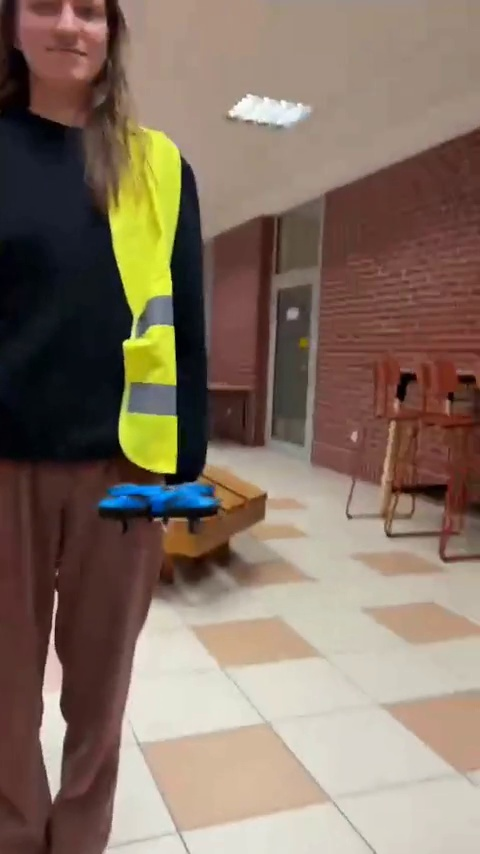drone: (95, 476, 224, 538)
vest: (0, 60, 215, 836)
